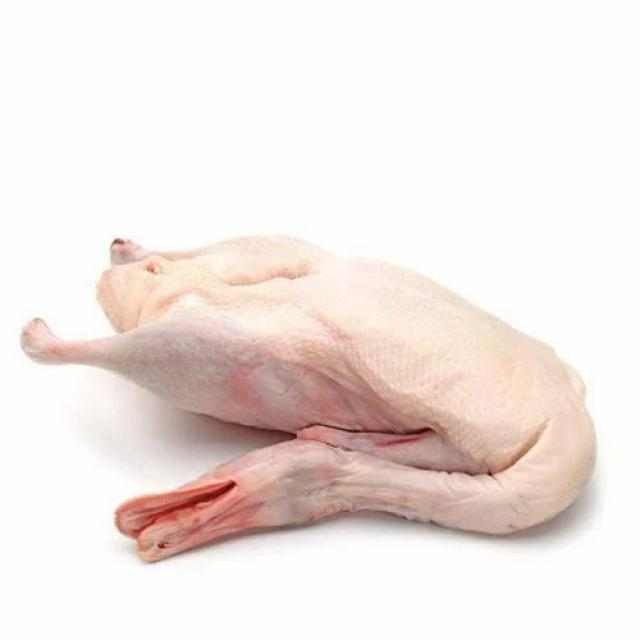duck: (22, 236, 594, 561)
